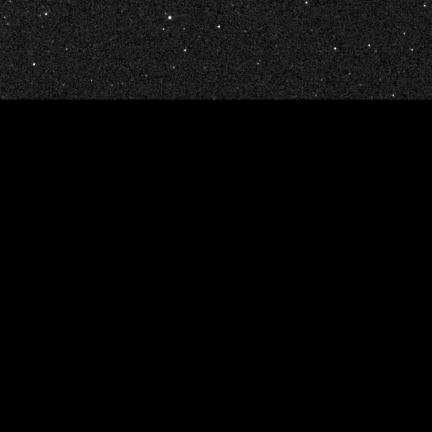blob: (168, 16, 172, 20), (334, 48, 337, 51), (368, 45, 371, 47)
